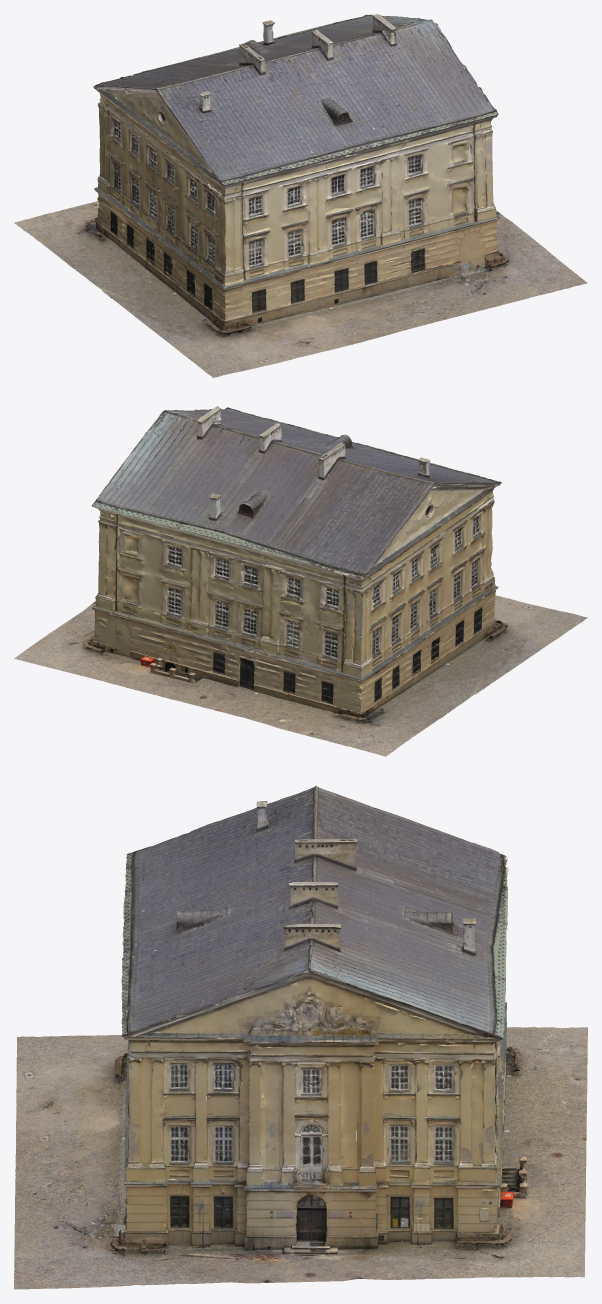
Rendered from mairie.glb.
The picture shows the model from 3 angles, top to bottom: view 1: azimuth 30°, elevation 25°; view 2: azimuth 150°, elevation 25°; view 3: azimuth 270°, elevation 25°; orthographic projection. The views are drawn at different scales.
Visible parts, largest first — view 1: Model_material1_0, Model_material0_0; view 2: Model_material0_0, Model_material1_0; view 3: Model_material0_0, Model_material1_0.
Boxes of the visible parts, <box> form: Model_material1_0: <box>47,14,587,344</box>; Model_material0_0: <box>14,14,523,377</box>; Model_material0_0: <box>83,406,587,756</box>; Model_material1_0: <box>14,407,522,744</box>; Model_material0_0: <box>15,785,587,1283</box>; Model_material1_0: <box>14,786,586,1289</box>.
Size of the model in its own units: 40.21 by 22.24 by 37.52.
2 materials, 2 textured.
